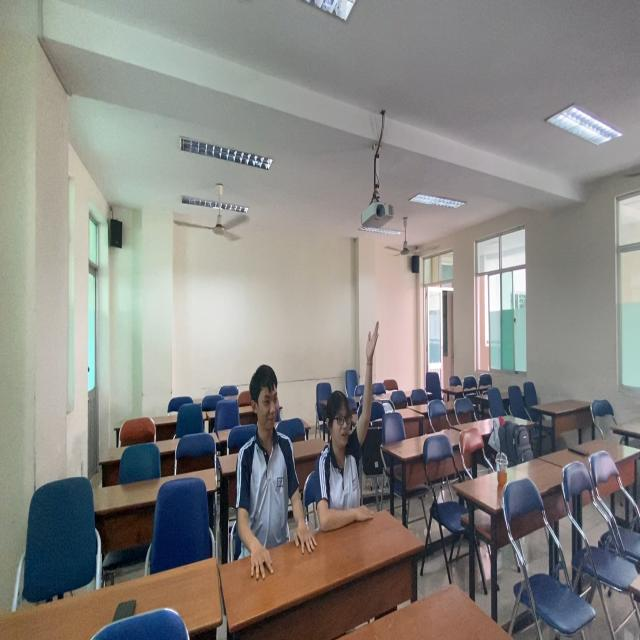raise_hand: (310, 313, 379, 532)
